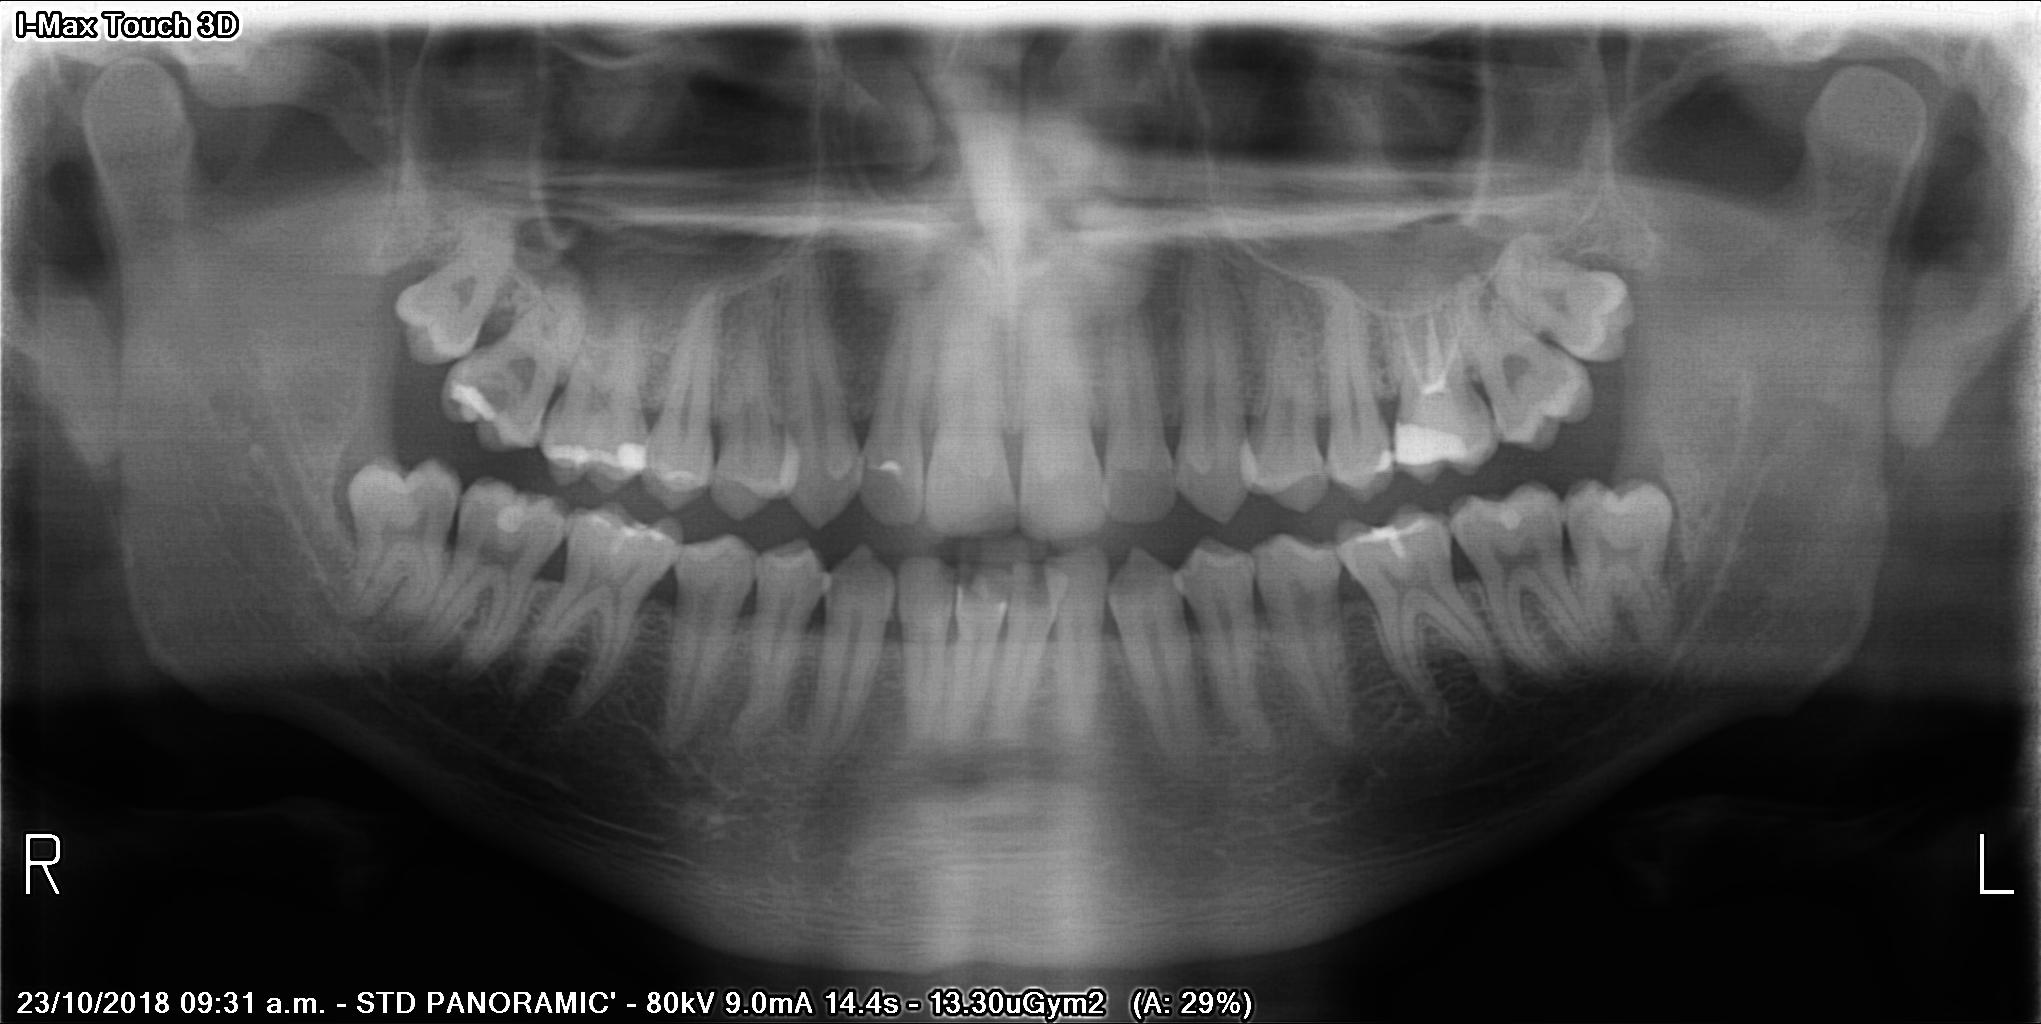Çürük: (539, 427, 656, 485), (1387, 413, 1483, 479), (439, 367, 505, 427)
